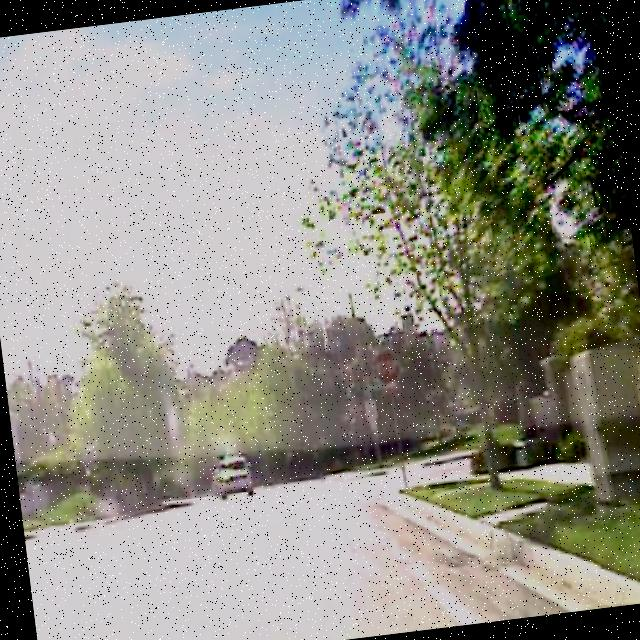Stop: (371, 349, 404, 383)
